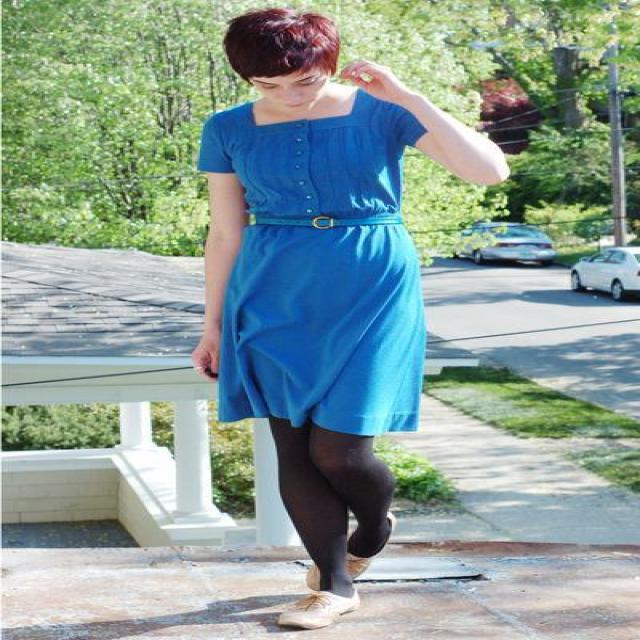dress: (197, 90, 445, 434)
pants: (268, 405, 390, 590)
shoe: (288, 576, 384, 639)
